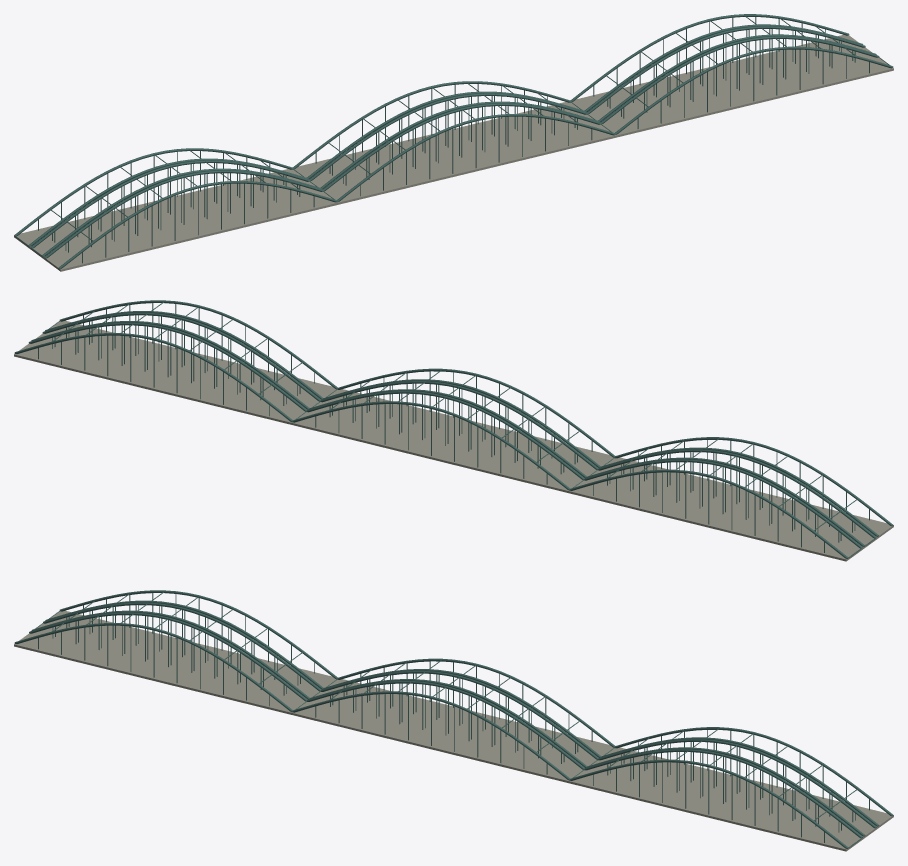
The model's file is hohenzollern.glb.
The picture shows the model from 3 angles, top to bottom: view 1: azimuth 30°, elevation 25°; view 2: azimuth 150°, elevation 25°; view 3: azimuth 330°, elevation 25°; orthographic projection.
Visible parts, largest first — view 1: rail-deck, steel-arch-trusses, vertical-hangers, cross-bracing; view 2: rail-deck, steel-arch-trusses, vertical-hangers, cross-bracing; view 3: rail-deck, steel-arch-trusses, vertical-hangers, cross-bracing.
Boxes of the visible parts, <box> form: rail-deck: <box>14,35,893,271</box>; steel-arch-trusses: <box>14,14,893,268</box>; vertical-hangers: <box>38,17,869,263</box>; cross-bracing: <box>15,15,889,256</box>; rail-deck: <box>14,320,893,561</box>; steel-arch-trusses: <box>14,300,893,558</box>; vertical-hangers: <box>38,303,869,552</box>; cross-bracing: <box>49,302,875,558</box>; rail-deck: <box>14,610,893,851</box>; steel-arch-trusses: <box>14,590,893,848</box>; vertical-hangers: <box>38,593,869,842</box>; cross-bracing: <box>35,592,862,848</box>.
Bounding box in the file's own units: 16 × 0.9434 × 1.64.
